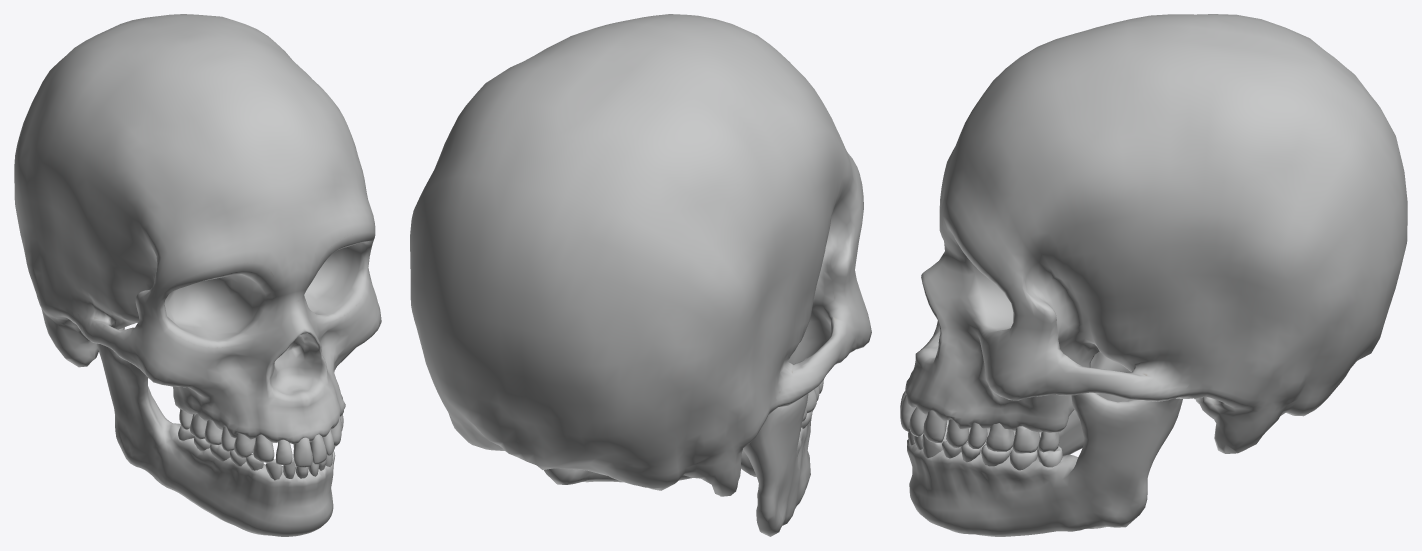
The model's file is SkullBoi.glb.
3 views of the same model, side by side, from view 1: azimuth 30°, elevation 25°; view 2: azimuth 150°, elevation 25°; view 3: azimuth 270°, elevation 25° (orthographic). The views are drawn at different scales.
Parts seen in each view (by area): view 1: node_id30; view 2: node_id30; view 3: node_id30.
Boxes of the visible parts, left/top/right/bottom form: node_id30: left=14, top=14, right=381, bottom=536; node_id30: left=410, top=14, right=871, bottom=536; node_id30: left=900, top=14, right=1407, bottom=536.
Bounding box in the file's own units: 0.3375 × 0.512 × 0.4893.
1 material, 1 textured.
